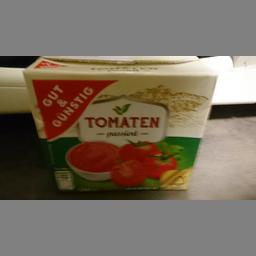tomato_sauce: (20, 56, 218, 191)
